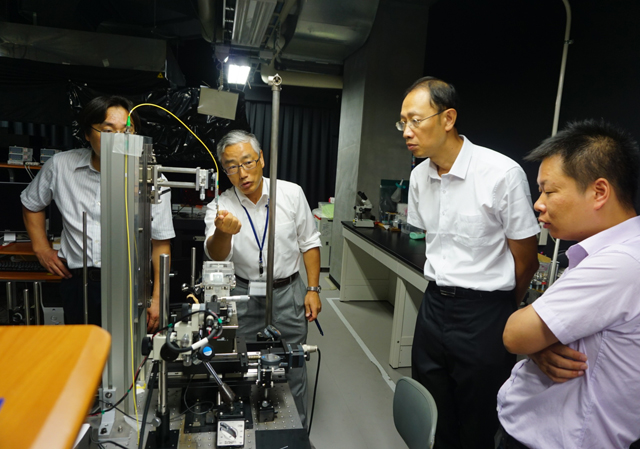noWear: (531, 162, 615, 248), (395, 95, 459, 164), (81, 110, 135, 159), (223, 147, 267, 197)
